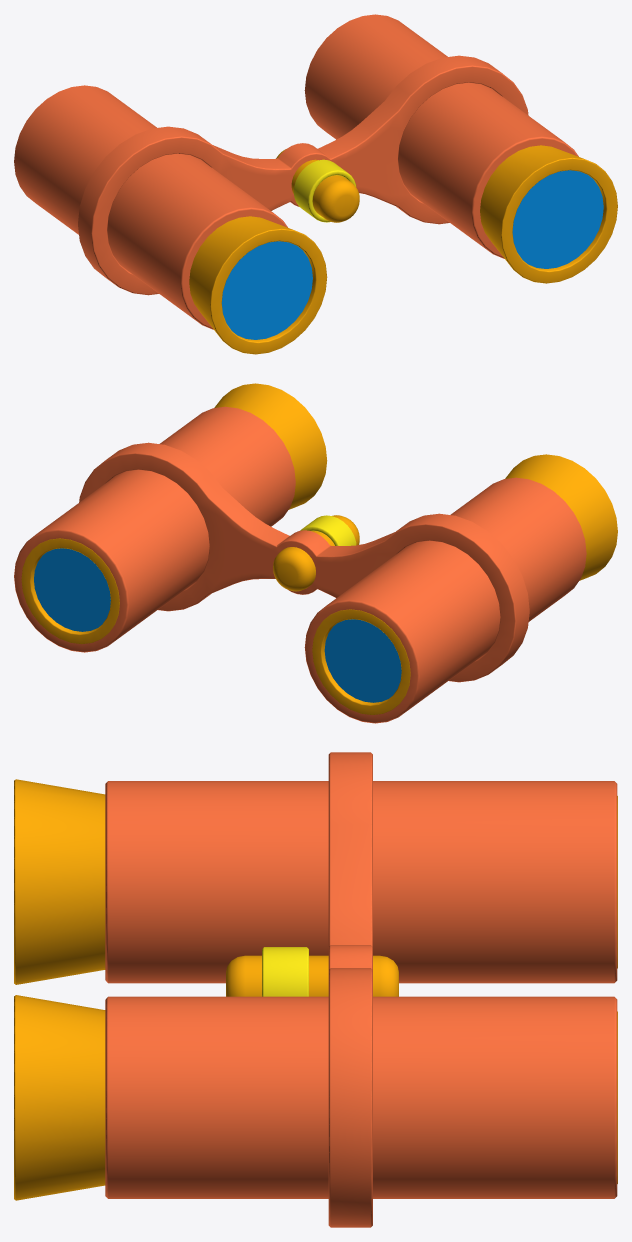
File: Public_12_Binoculars_1.glb
The picture shows the model from 3 angles, top to bottom: view 1: azimuth 30°, elevation 25°; view 2: azimuth 150°, elevation 25°; view 3: azimuth 270°, elevation 25°; orthographic projection. The views are drawn at different scales.
Parts seen in each view (by area): view 1: Public_12_Binoculars_1; view 2: Public_12_Binoculars_1; view 3: Public_12_Binoculars_1.
Part boxes in pixels (bbox=[...]): Public_12_Binoculars_1: bbox=[14, 14, 617, 354]; Public_12_Binoculars_1: bbox=[14, 383, 617, 723]; Public_12_Binoculars_1: bbox=[14, 752, 617, 1227].
Size of the model in its own units: 2.93 by 0.9866 by 2.29.
Materials: 1 (1 with a texture image).
